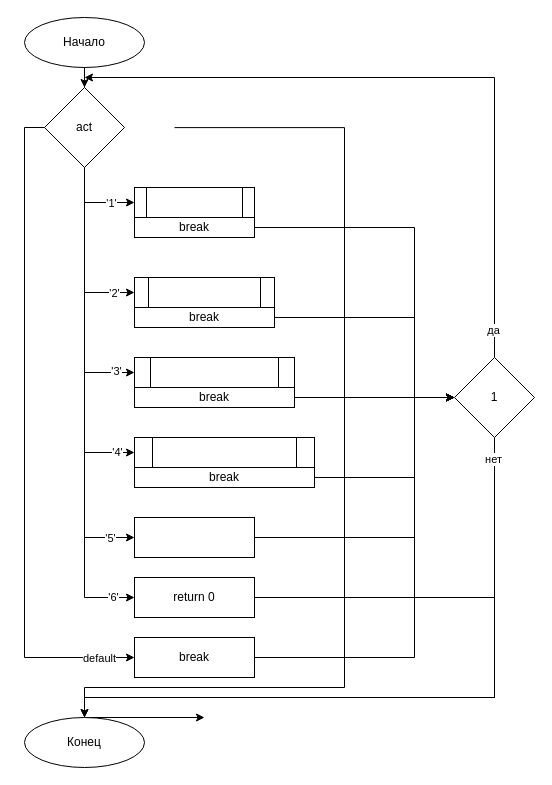
Some shapes in this 552 by 785 pixel diagram are drawn without their labels. Here are the shapes that lost their labels. From the top down, the centre of each, then its label:
point 194,202: printf("%f\n", area_triangle(a))
point 204,292: definition_triangle()
point 214,372: draw_triangle_stars(a)
point 224,452: draw_triangle_char(a, b)
point 194,537: continue
